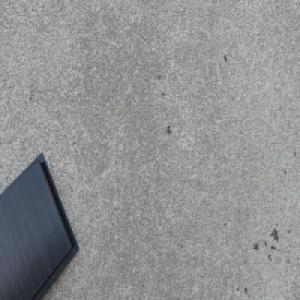PlasticPart: (0, 150, 79, 300)
